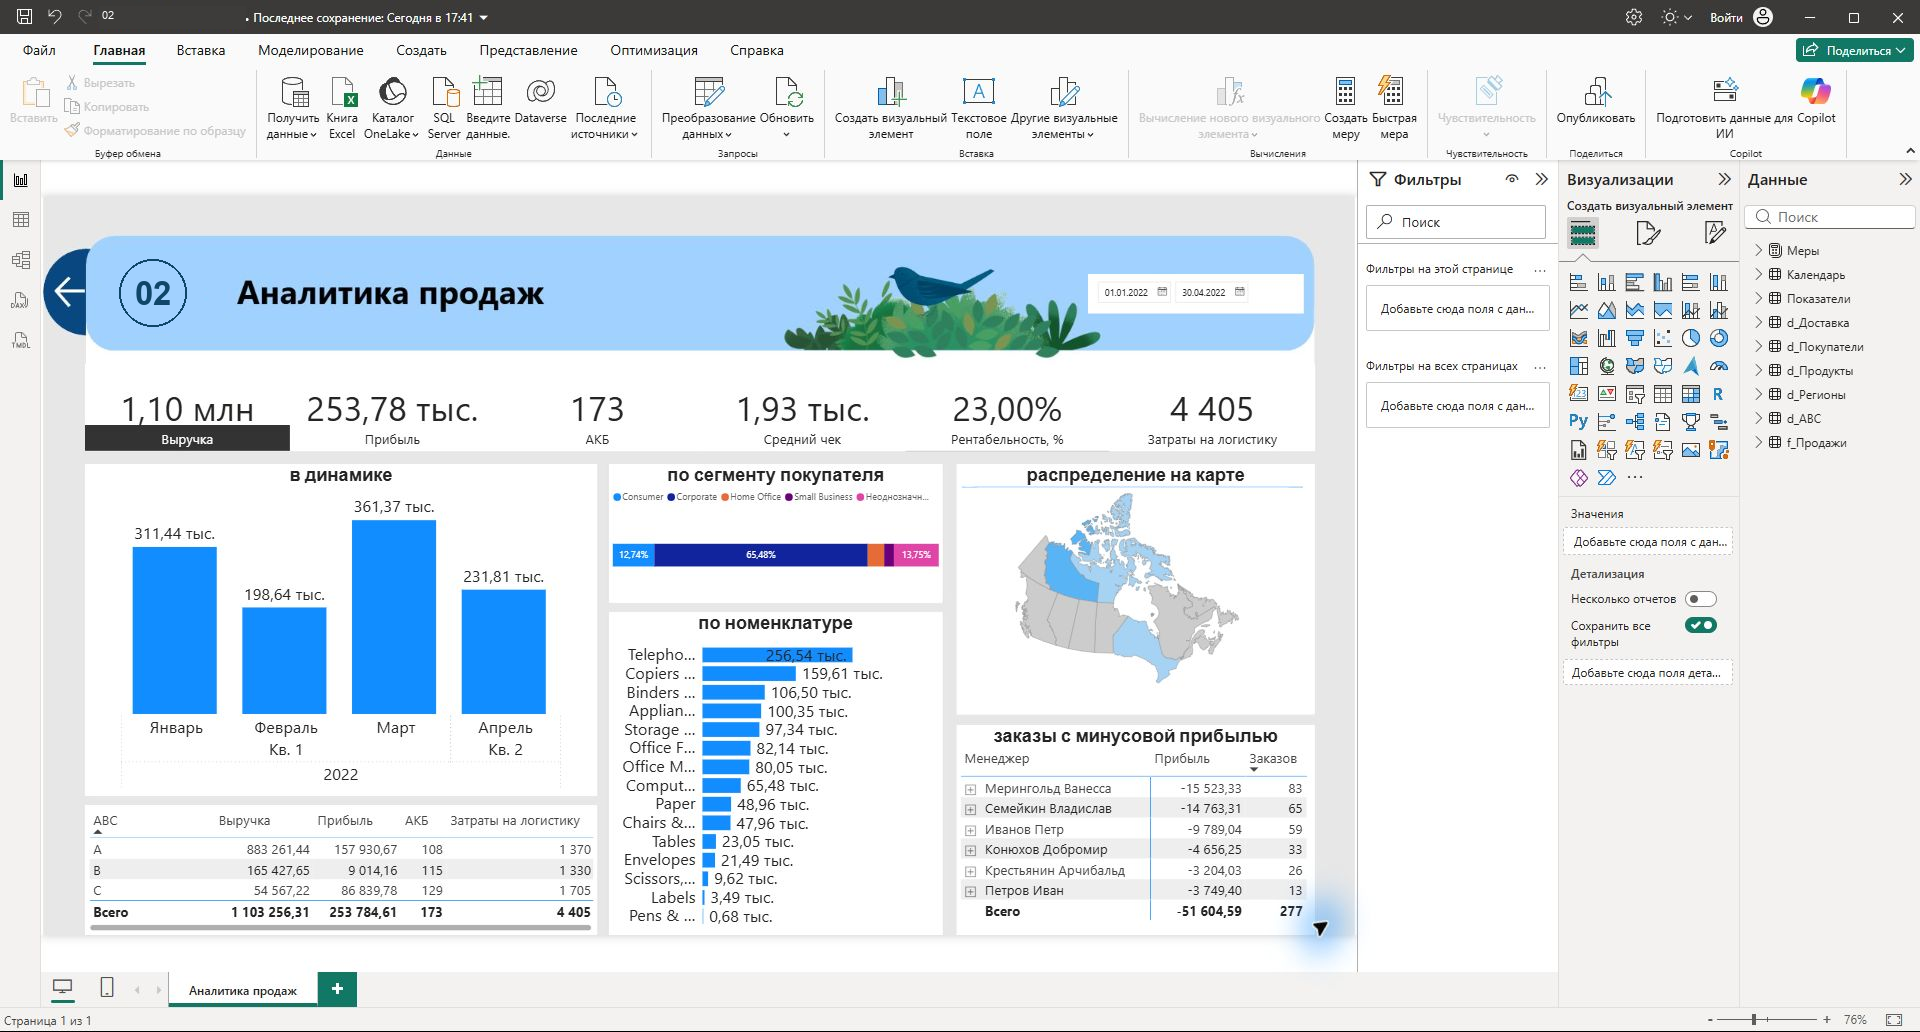

The page's visual inventory and layout, read from the dashboard file:
{"tool":"powerbi","page":{"name":"Аналитика продаж","canvas":[1732,971],"ordinal":0},"visuals":[{"type":"textbox","box":[58,211,1618,123],"z":-10},{"type":"clusteredColumnChart","title":"в динамике","fields":{"Category":["Календарь.Год","Календарь.Квартал_текст","Календарь.Месяц_текст"],"Y":["Меры.Показатель для графиков"]},"box":[58,352,674,437],"z":0},{"type":"hundredPercentStackedBarChart","title":"по сегменту покупателя","fields":{"Series":["d_Покупатели.Segment"],"Y":["Меры.Выбранный показатель"]},"box":[748,352,439,182],"z":0},{"type":"clusteredBarChart","title":"по номенклатуре","fields":{"Category":["d_Продукты.Category","d_Продукты.Subcategory","d_Продукты.Product"],"Y":["Меры.Показатель для графиков"]},"box":[748,546,439,425],"z":0},{"type":"pivotTable","title":"заказы с минусовой прибылью","fields":{"Rows":["d_Регионы.Manager","f_Продажи.Order_ID"],"Values":["Меры.Прибыль убыточных заказов","Меры.Убыточные заказы"]},"box":[1205,695,471,276],"z":0},{"type":"tableEx","fields":{"Values":["d_ABC.ABC","Меры.Выручка ABC","Меры.Прибыль ABC","Меры.АКБ ABC","Меры.Логистика ABC"]},"box":[58,800,674,171],"z":0},{"type":"card","fields":{"Values":["Меры.Выручка"]},"box":[58,220,269.7,114],"z":1},{"type":"card","fields":{"Values":["Меры.Прибыль"]},"box":[327.7,220,269.7,114],"z":2},{"type":"tableEx","title":"распределение на карте","fields":{"Values":["Меры.Карта регионов"]},"box":[1205,352,471,328],"z":2},{"type":"card","fields":{"Values":["Меры.АКБ"]},"box":[597.3,220,269.7,114],"z":3},{"type":"card","fields":{"Values":["Меры.Средний чек"]},"box":[867,220,269.7,114],"z":4},{"type":"card","fields":{"Values":["Меры.Рентабельность"]},"box":[1136.7,220,269.7,114],"z":5},{"type":"card","fields":{"Values":["Меры.Затраты на логистику"]},"box":[1406.3,220,269.7,114],"z":6},{"type":"slicer","fields":{"Values":["Календарь.Date"]},"box":[1378,101,284,52],"z":20},{"type":"actionButton","box":[58,300,269.7,34],"z":40},{"type":"actionButton","box":[327.7,300,269.7,34],"z":41},{"type":"actionButton","box":[597.3,300,269.7,34],"z":42},{"type":"actionButton","box":[867,300,269.7,34],"z":43},{"type":"actionButton","box":[1136.7,300,269.7,34],"z":44},{"type":"actionButton","box":[1406.3,300,269.7,34],"z":45},{"type":"advancedSlicerVisual","fields":{"Values":["Показатели.Показатель"]},"box":[58,220,1618,114],"z":100}]}

Visuals, with their boxes on the page's 1732x971 design canvas (x1, y1, x2, y2). These are canvas units, not pixel positions in the 1920x1032 screenshot, which may show the page scaled, cropped or inside an application window:
textbox: x1=58 y1=211 x2=1676 y2=334
"в динамике" clusteredColumnChart: x1=58 y1=352 x2=732 y2=789
"по сегменту покупателя" hundredPercentStackedBarChart: x1=748 y1=352 x2=1187 y2=534
"по номенклатуре" clusteredBarChart: x1=748 y1=546 x2=1187 y2=971
"заказы с минусовой прибылью" pivotTable: x1=1205 y1=695 x2=1676 y2=971
tableEx - d_ABC.ABC x Меры.Выручка ABC: x1=58 y1=800 x2=732 y2=971
card - Меры.Выручка: x1=58 y1=220 x2=328 y2=334
card - Меры.Прибыль: x1=328 y1=220 x2=597 y2=334
"распределение на карте" tableEx: x1=1205 y1=352 x2=1676 y2=680
card - Меры.АКБ: x1=597 y1=220 x2=867 y2=334
card - Меры.Средний чек: x1=867 y1=220 x2=1137 y2=334
card - Меры.Рентабельность: x1=1137 y1=220 x2=1406 y2=334
card - Меры.Затраты на логистику: x1=1406 y1=220 x2=1676 y2=334
slicer - Календарь.Date: x1=1378 y1=101 x2=1662 y2=153
actionButton: x1=58 y1=300 x2=328 y2=334
actionButton: x1=328 y1=300 x2=597 y2=334
actionButton: x1=597 y1=300 x2=867 y2=334
actionButton: x1=867 y1=300 x2=1137 y2=334
actionButton: x1=1137 y1=300 x2=1406 y2=334
actionButton: x1=1406 y1=300 x2=1676 y2=334
advancedSlicerVisual - Показатели.Показатель: x1=58 y1=220 x2=1676 y2=334
